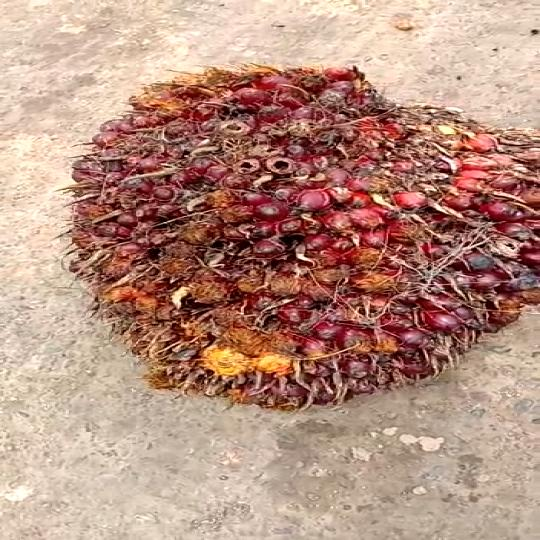masak: (74, 51, 540, 436)
